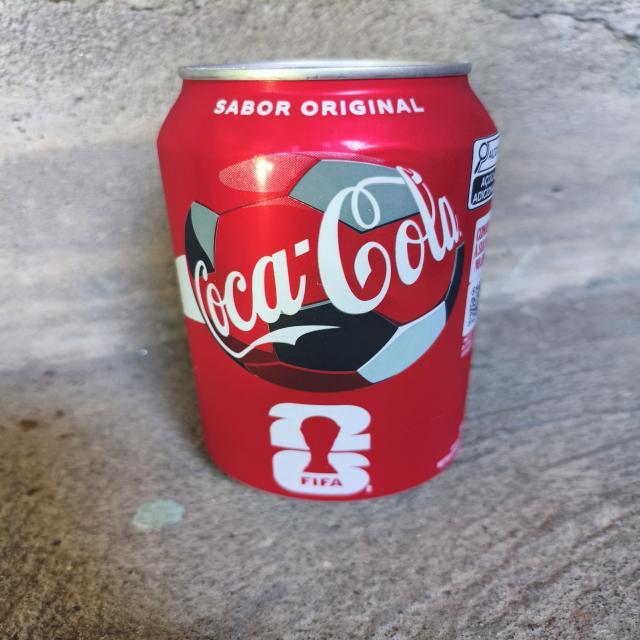Coca Cola: (136, 44, 542, 510)
